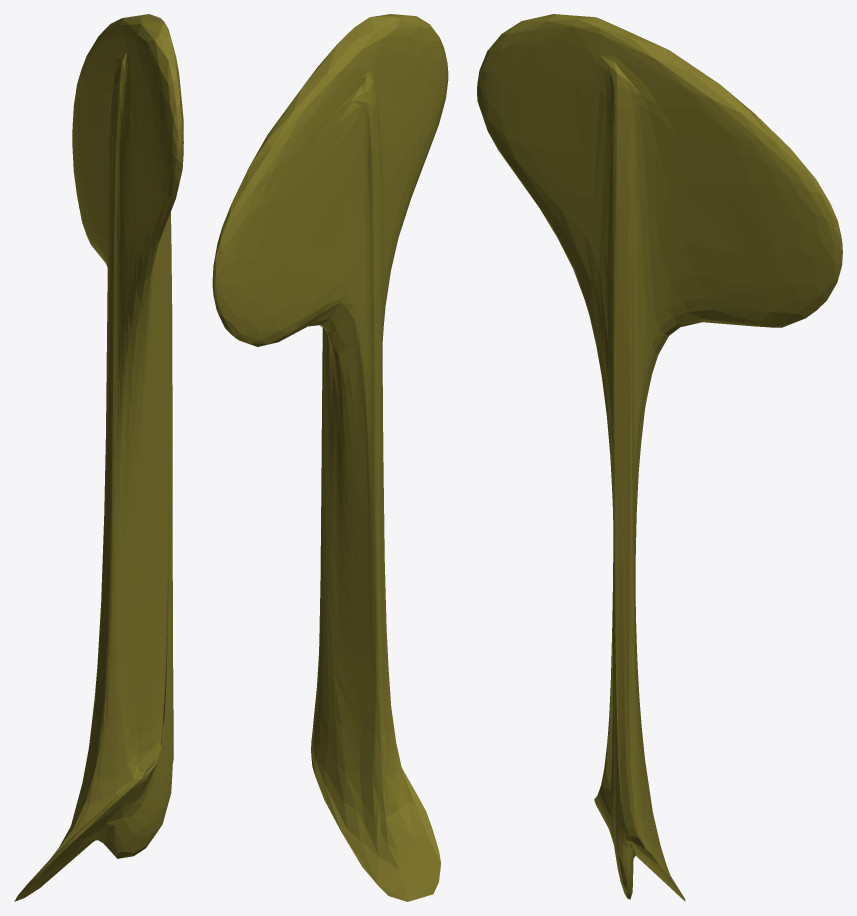
The picture shows the model from 3 angles, left to right: view 1: azimuth 30°, elevation 25°; view 2: azimuth 150°, elevation 25°; view 3: azimuth 270°, elevation 25°; orthographic projection. The views are drawn at different scales.
Visible parts, largest first — view 1: 940_Cube.3800; view 2: 940_Cube.3800; view 3: 940_Cube.3800.
Boxes of the visible parts, x1,y1,x2,y2 form: 940_Cube.3800: (14, 14, 183, 901); 940_Cube.3800: (212, 14, 448, 901); 940_Cube.3800: (477, 14, 842, 901).
Size of the model in its own units: 2.39 by 13.2 by 4.74.
